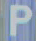Parking: (5, 1, 35, 39)
